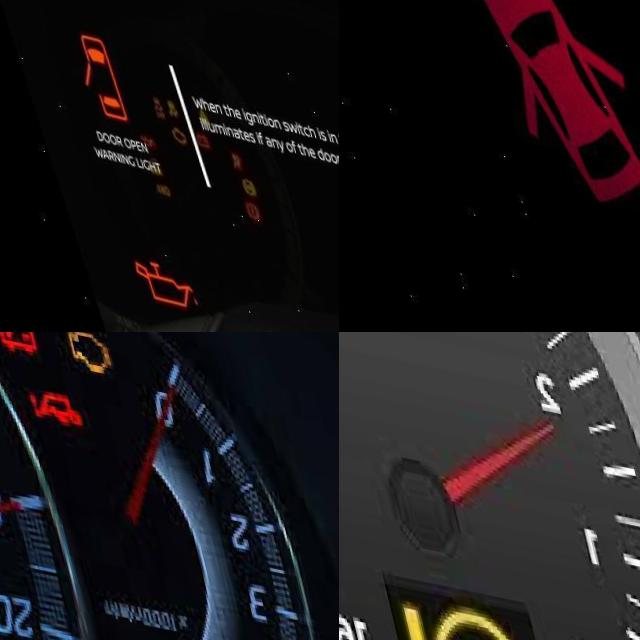Electronic Power Steering: (371, 582, 525, 640)
